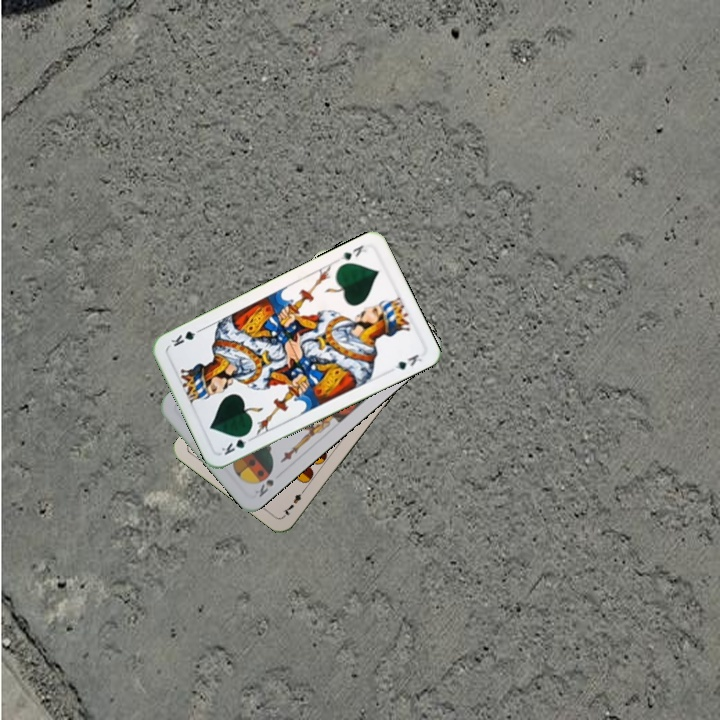E7: (279, 484, 308, 519)
GK: (217, 429, 256, 458), (337, 241, 372, 264)
SK: (251, 475, 276, 500)
